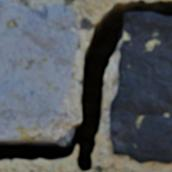brick: (0, 1, 79, 140), (110, 13, 171, 163)
crack: (0, 1, 171, 171)
